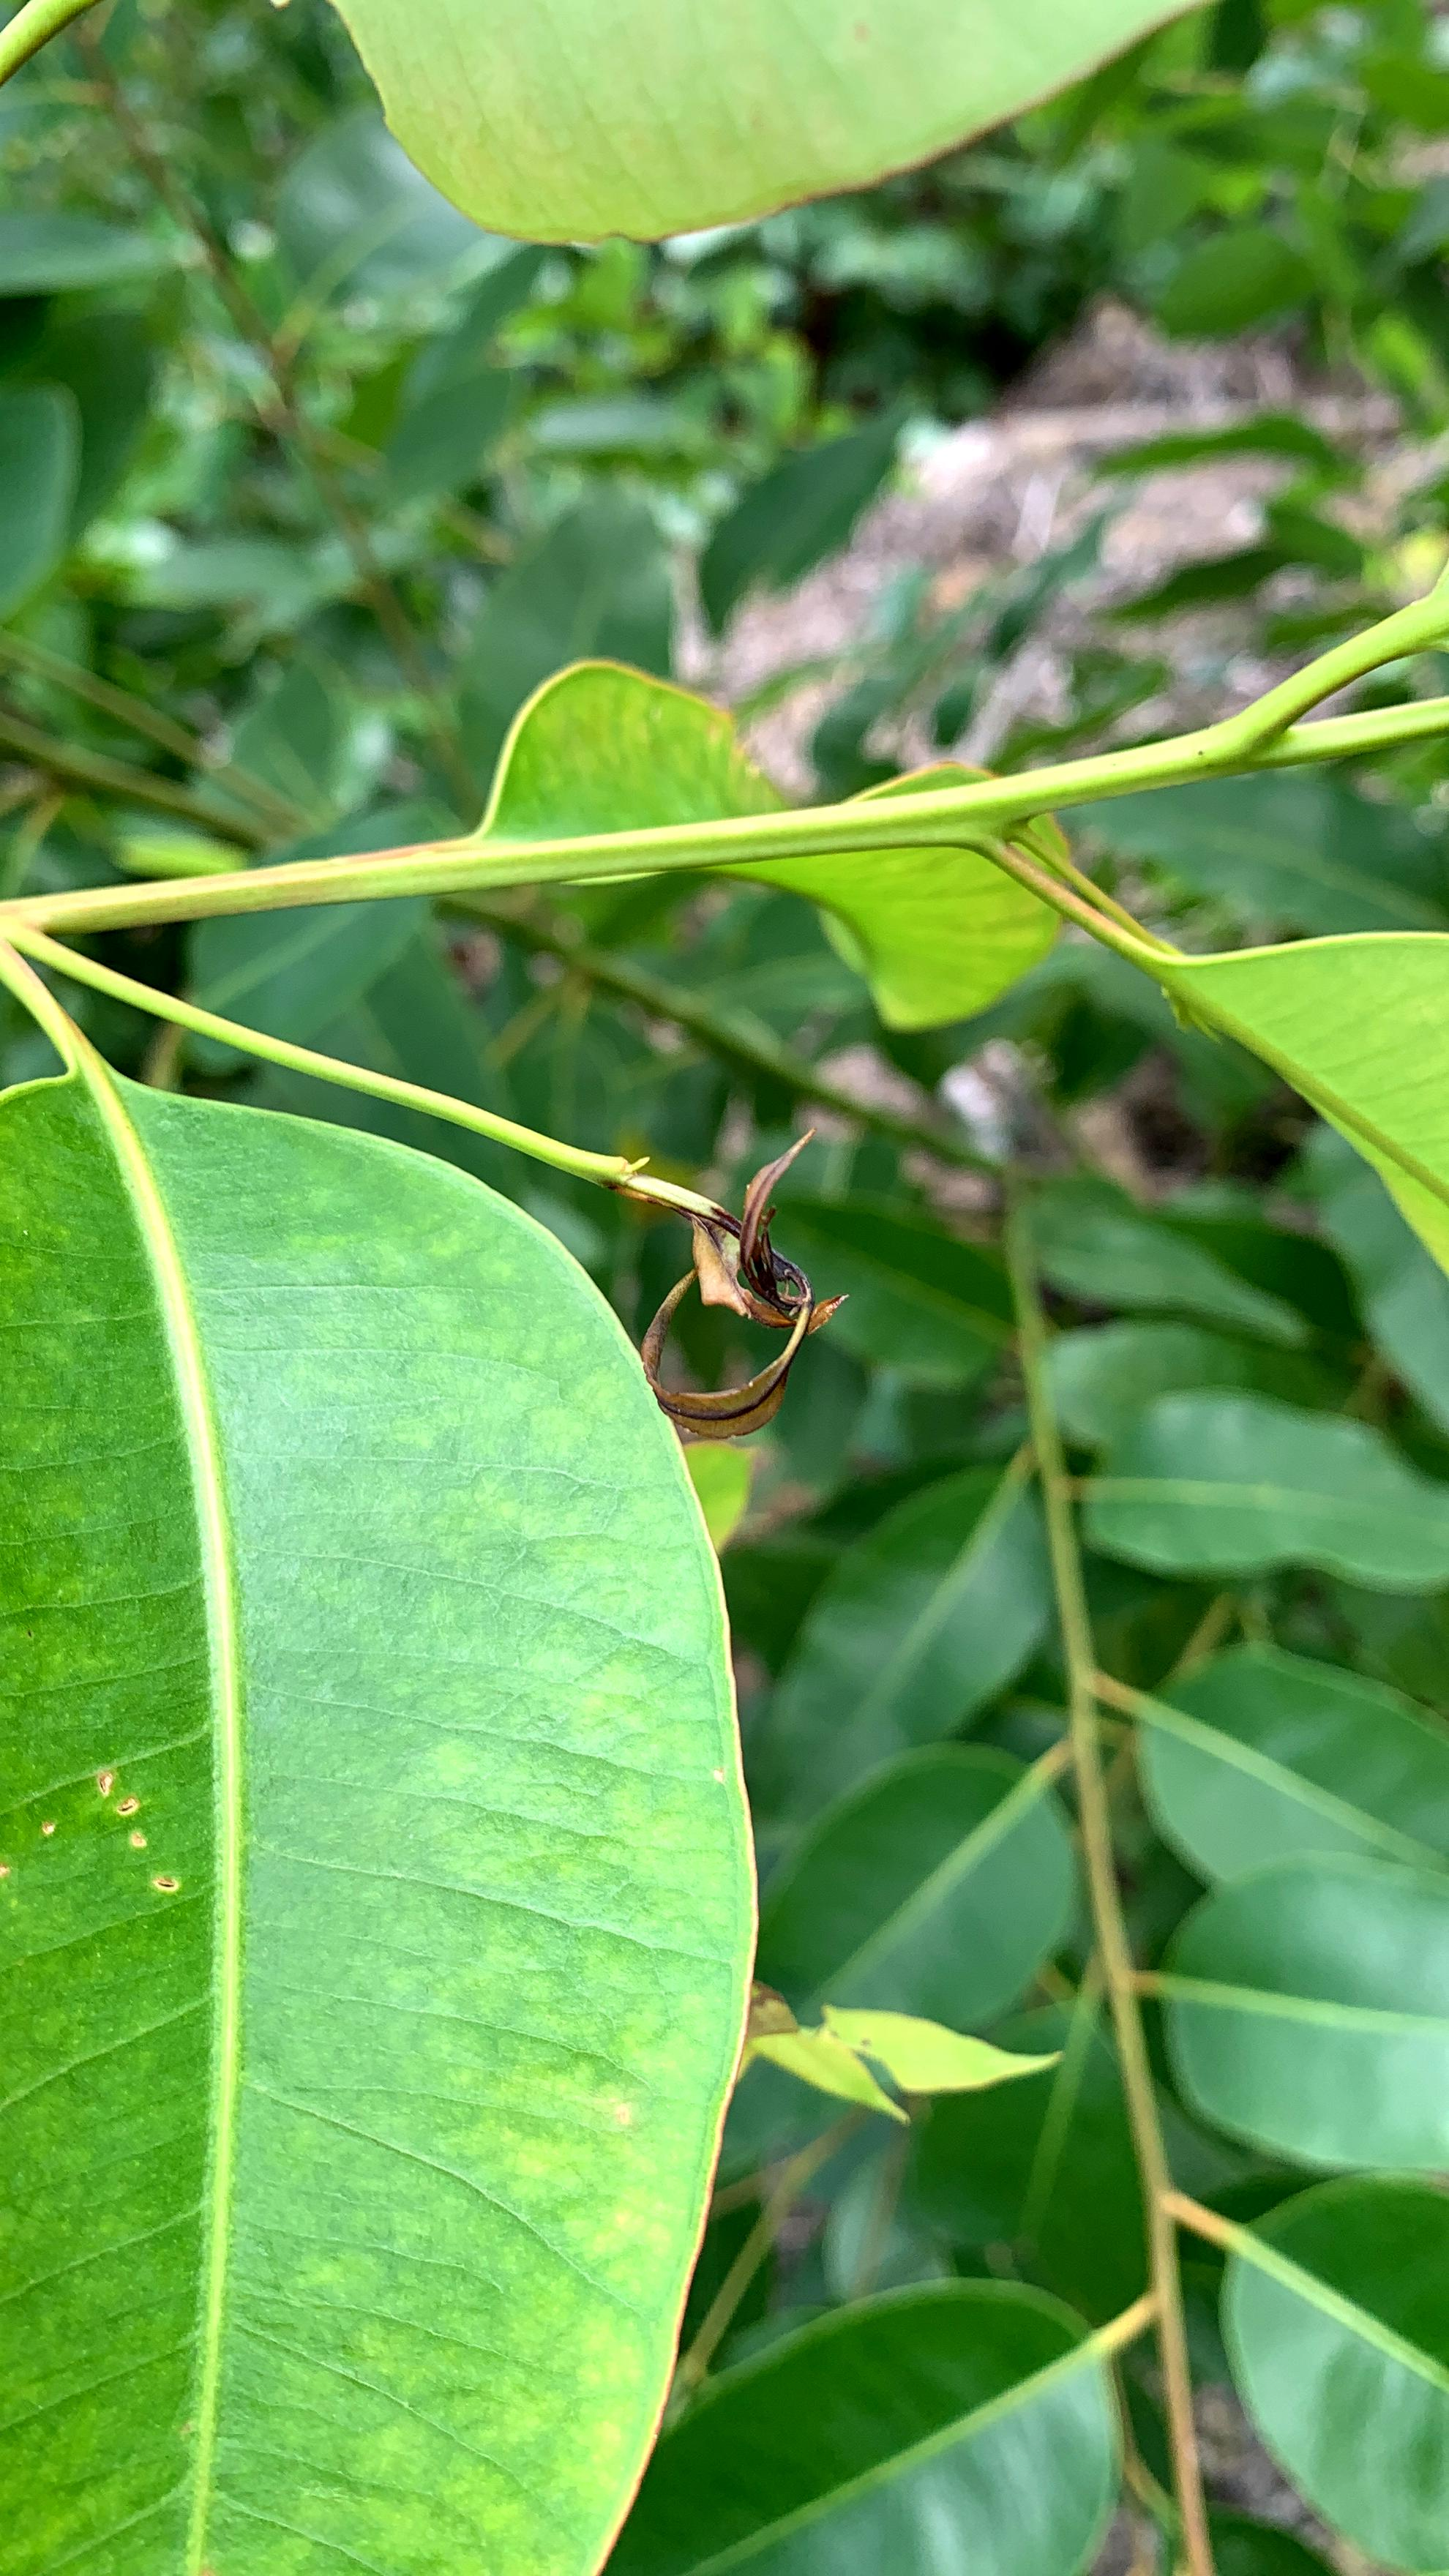Helopeltis-Withered Sprout: (619, 1168, 862, 1449)
